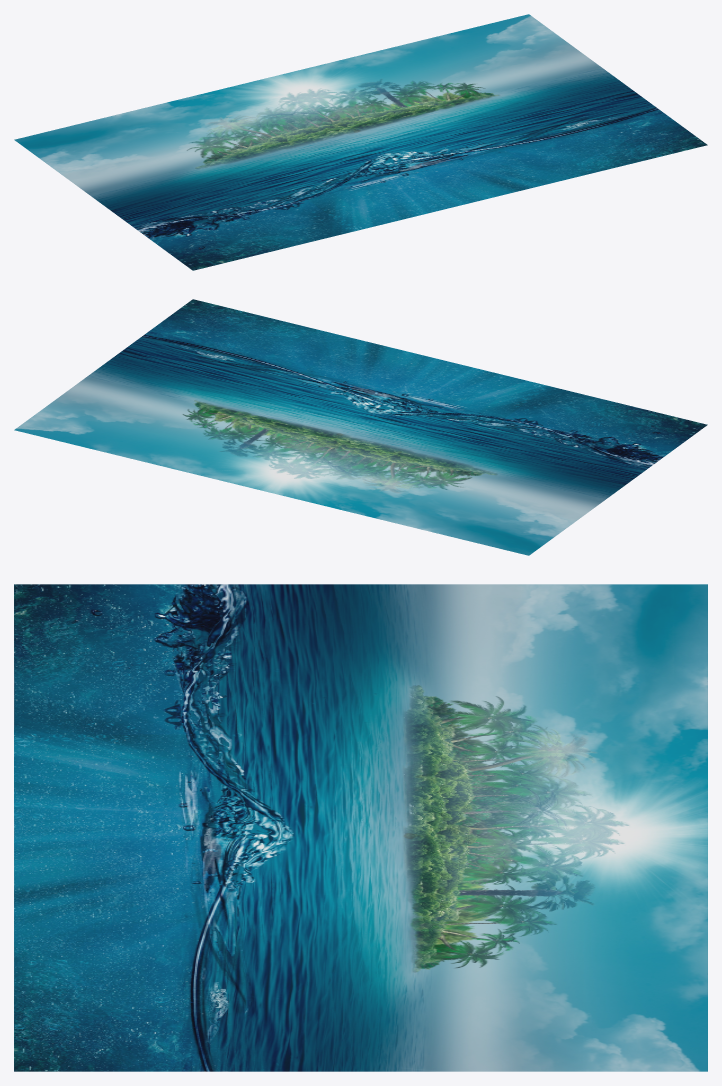
File: MeinMenu 1.FBX
3 renders of one model, top to bottom at view 1: azimuth 30°, elevation 25°; view 2: azimuth 150°, elevation 25°; view 3: azimuth 270°, elevation 25°, orthographic. The views are drawn at different scales.
Parts seen in each view (by area): view 1: Plane001; view 2: Plane001; view 3: Plane001.
Part boxes in pixels (x1,y1,x2,y2): Plane001: (14,14,707,270); Plane001: (14,299,707,555); Plane001: (14,584,707,1071).
Bounding box in the file's own units: 3200 × 1.18e-13 × 1926.
1 material, 1 textured.
